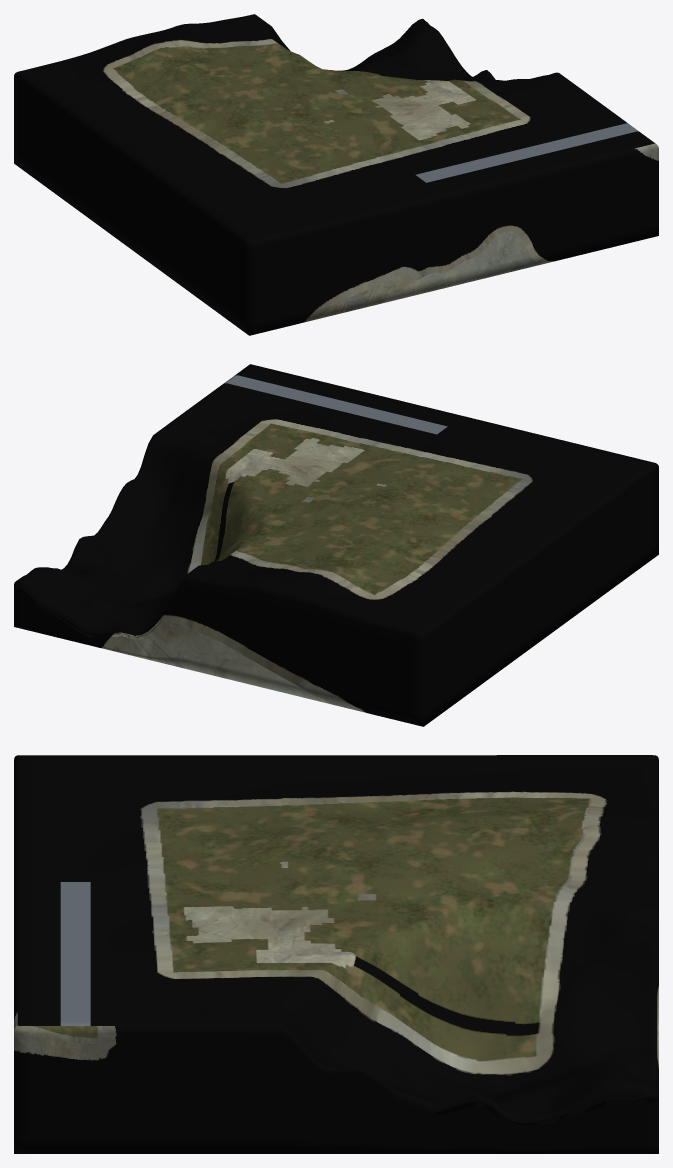
The model's file is ground.fbx.
3 renders of one model, top to bottom at view 1: azimuth 30°, elevation 25°; view 2: azimuth 150°, elevation 25°; view 3: azimuth 270°, elevation 25°, orthographic. The views are drawn at different scales.
Parts seen in each view (by area): view 1: Landscape.001; view 2: Landscape.001; view 3: Landscape.001.
Part boxes in pixels (box(x1,y1,x2,y2)): Landscape.001: box(14, 14, 658, 335); Landscape.001: box(14, 364, 658, 726); Landscape.001: box(14, 755, 658, 1153).
Size of the model in its own units: 102 by 25.24 by 101.
3 materials, 2 textured.
